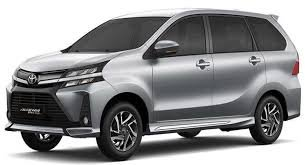mobil: (7, 3, 303, 162)
